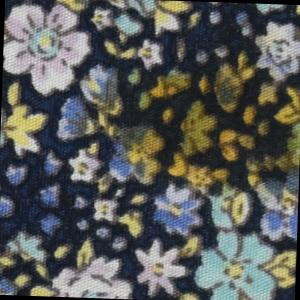Oil Stain: (141, 64, 300, 196)
